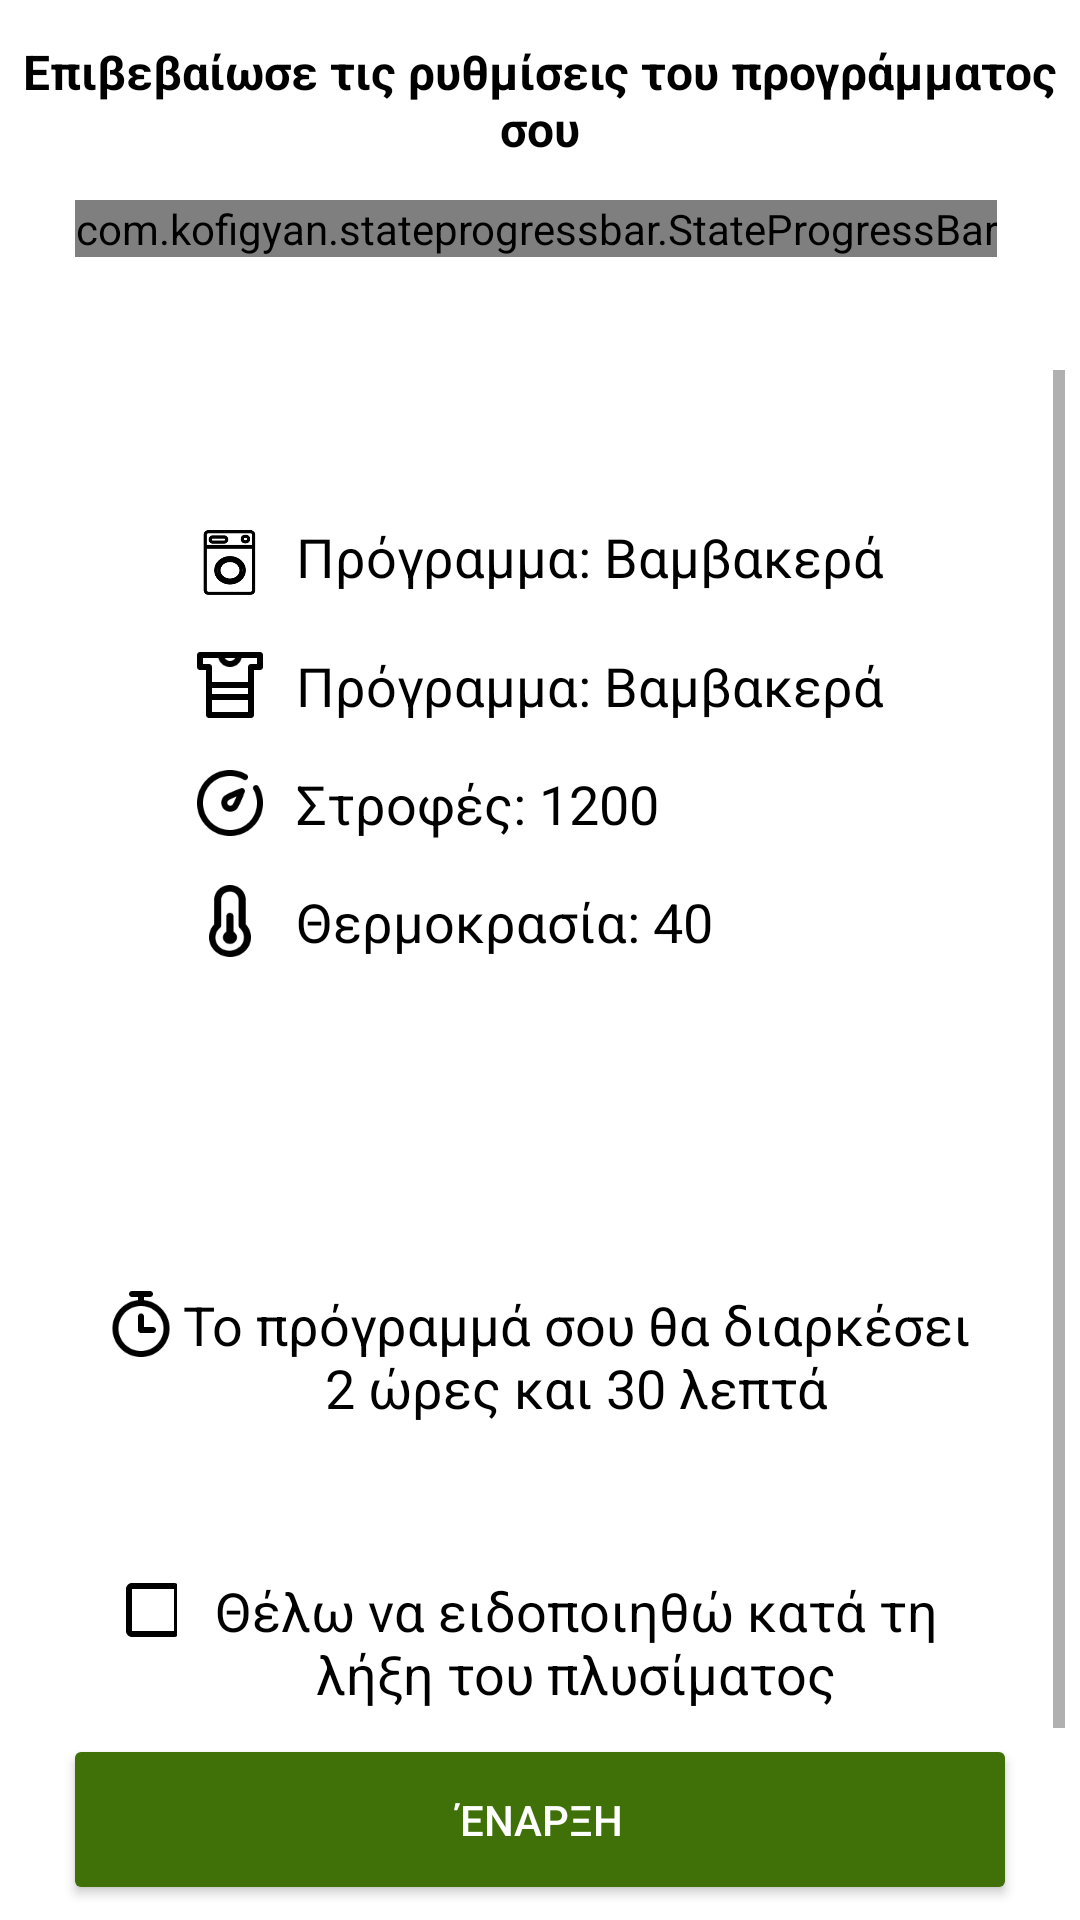

Icons on this 1080px x 1920px Android screen, each with its box as [x1,y1,x2,y2]:
clothes short sleeve: [197,652,263,718]
speed: [197,770,263,836]
stopwatch start: [112,1291,170,1357]
washer: [203,530,256,595]
